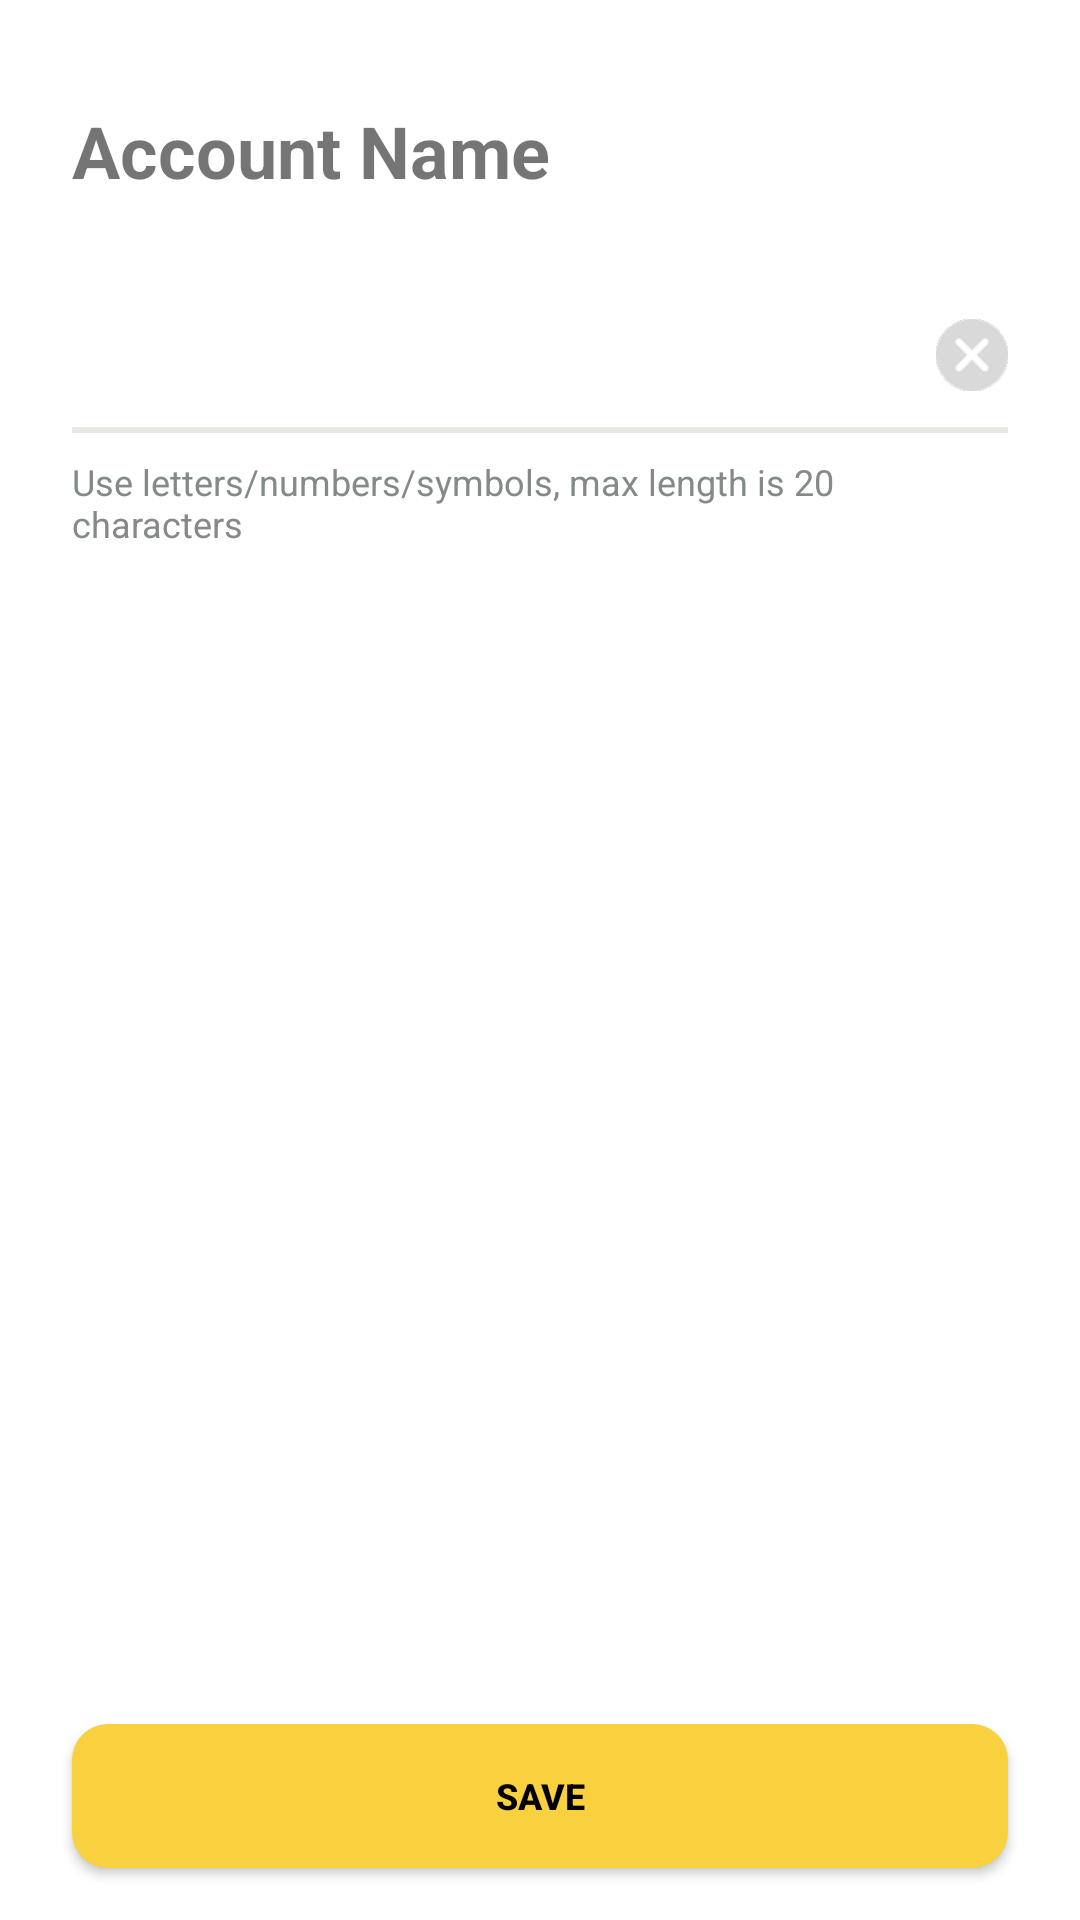

Screen size 1080 x 1920. Icon name, then its center in pixels as (x,y):
edit delete: (972,355)
